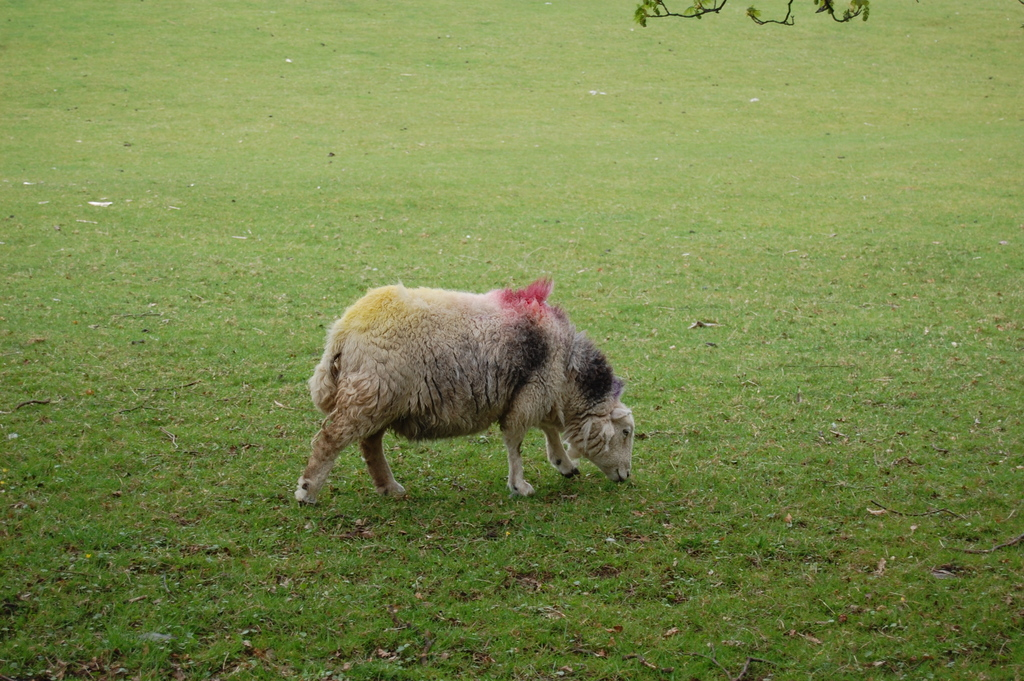sheep: (292, 278, 633, 505)
